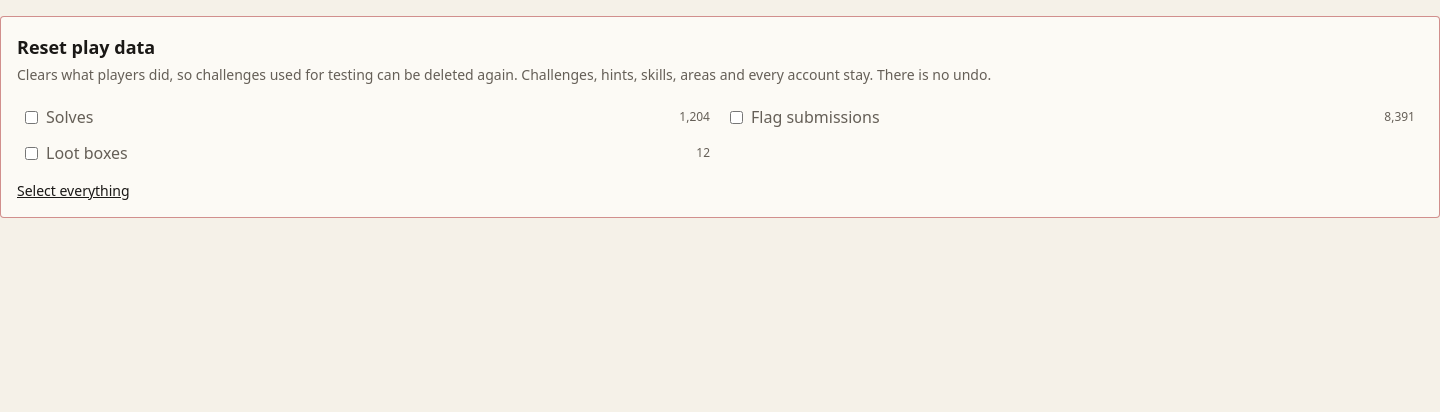
Scenario: ResetPlayDataPanel › reports how much went
Click the checkbox labelled "Solves 1,204": (32, 117) [25,110,38,124]
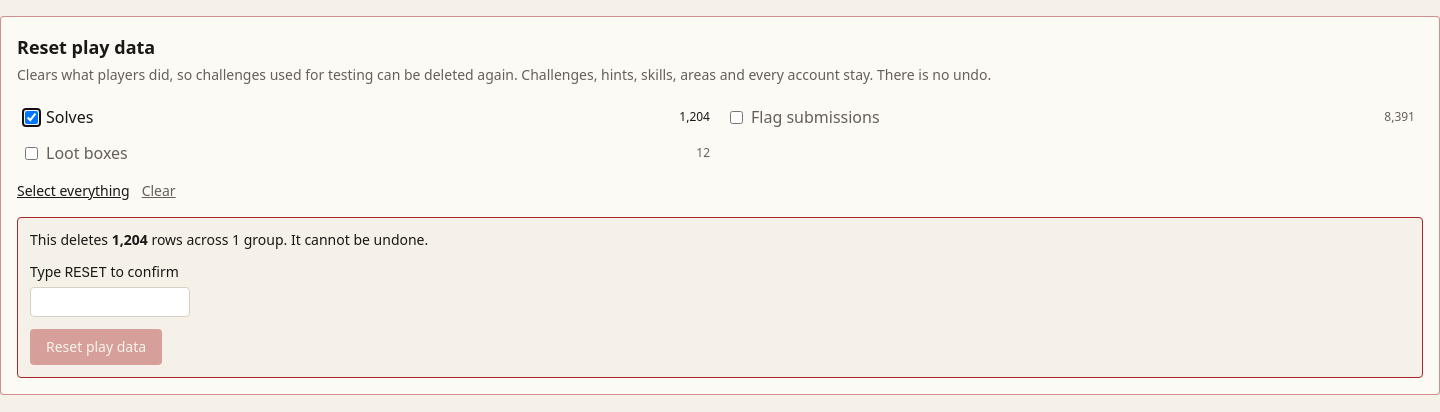
In the field labelled "Type RESET to confirm": (110, 302) [30,287,190,317], type "RESET"
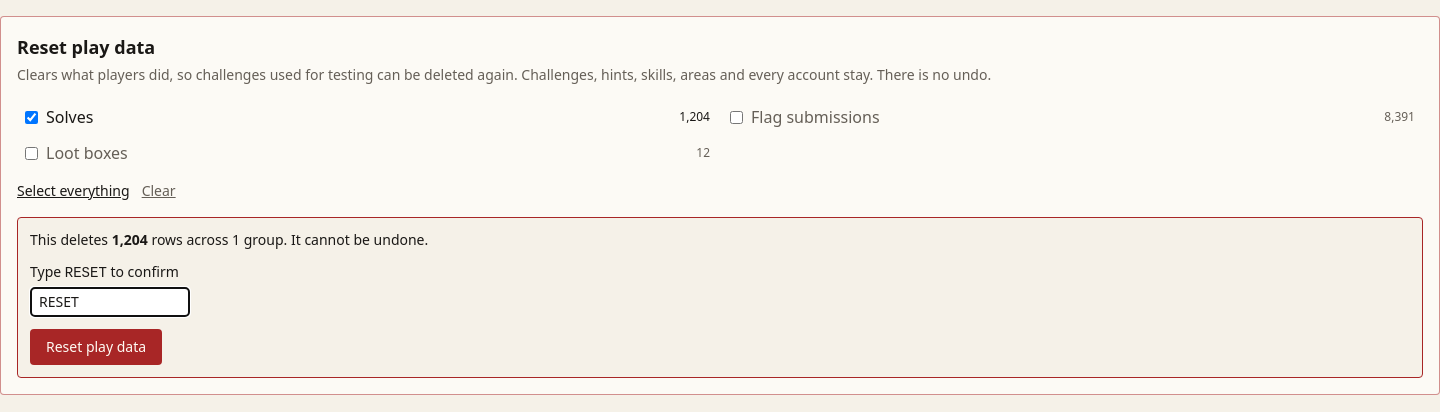
Click the button "Reset play data": (96, 347) [30,329,162,365]
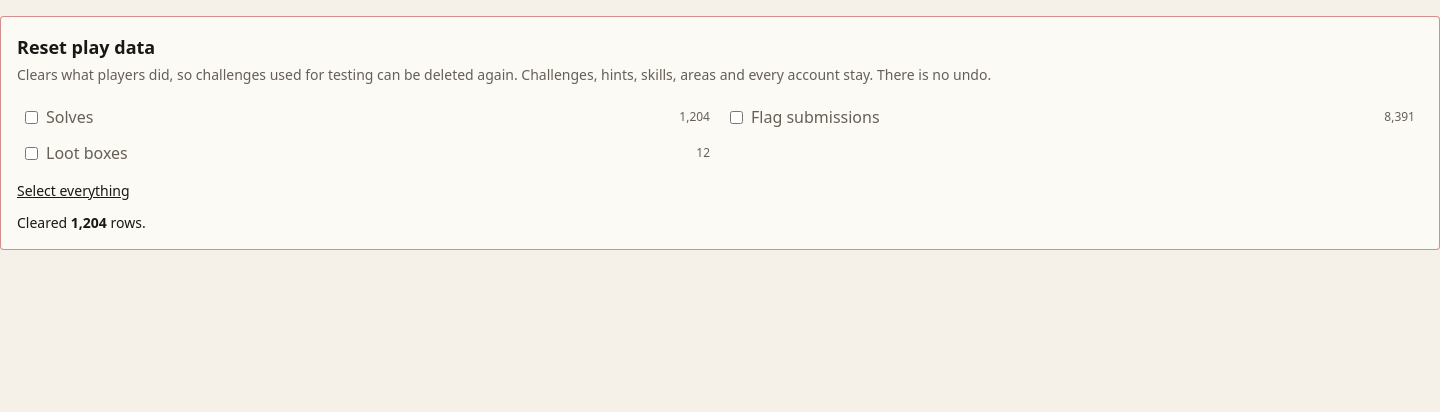
Expected: the message shows "Cleared 1,204 rows", [17,213,146,232]
